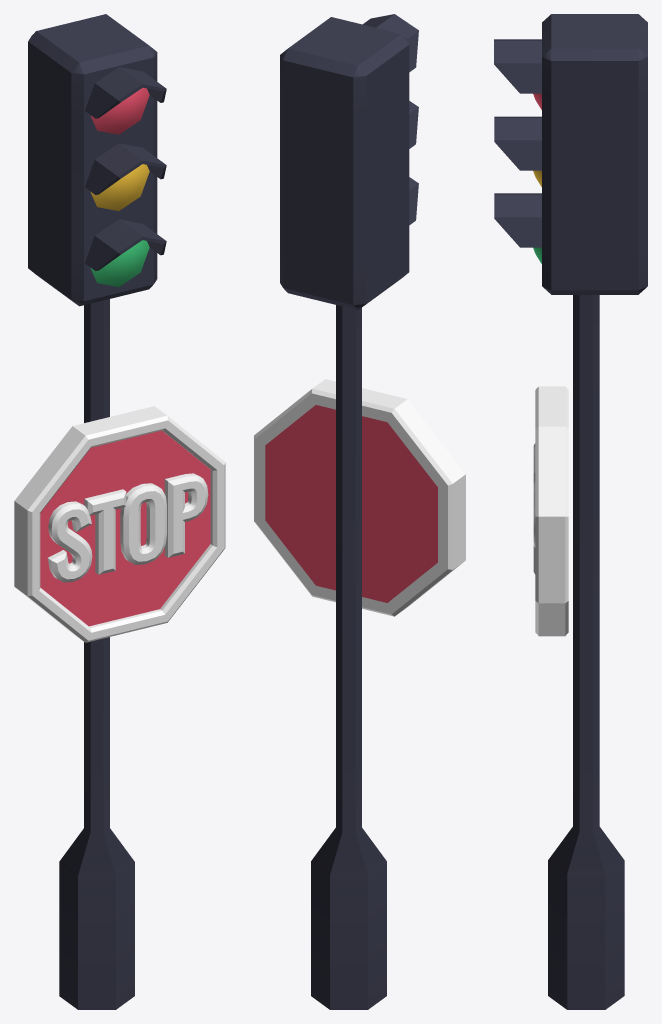
Rendered from CG-City Assets.gltf.
The picture shows the model from 3 angles, left to right: view 1: azimuth 30°, elevation 25°; view 2: azimuth 150°, elevation 25°; view 3: azimuth 270°, elevation 25°; orthographic projection.
Visible parts, largest first — view 1: Main body, Stop, Stick, Sign, Orange light, Green light, Red light; view 2: Main body, Stick, Sign, Stop; view 3: Main body, Stick, Stop.
Part boxes in pixels (x1,y1,x2,y2): Main body: (28, 14, 166, 306); Stop: (14, 406, 225, 642); Stick: (59, 299, 134, 1009); Sign: (40, 430, 210, 626); Orange light: (90, 164, 149, 210); Green light: (90, 240, 149, 286); Red light: (90, 87, 149, 134); Main body: (280, 14, 418, 309); Stick: (311, 305, 386, 1009); Sign: (265, 405, 437, 602); Stop: (254, 379, 465, 616); Main body: (494, 14, 647, 294); Stick: (548, 295, 624, 1009); Stop: (533, 386, 568, 636).
Bounding box in the file's own units: 0.0123 × 0.0568 × 0.00822.
